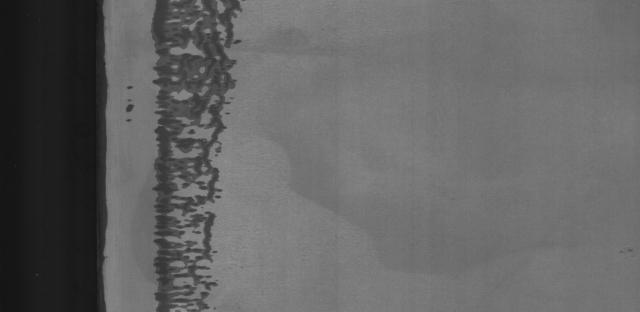oil_spot: (141, 0, 242, 312)
